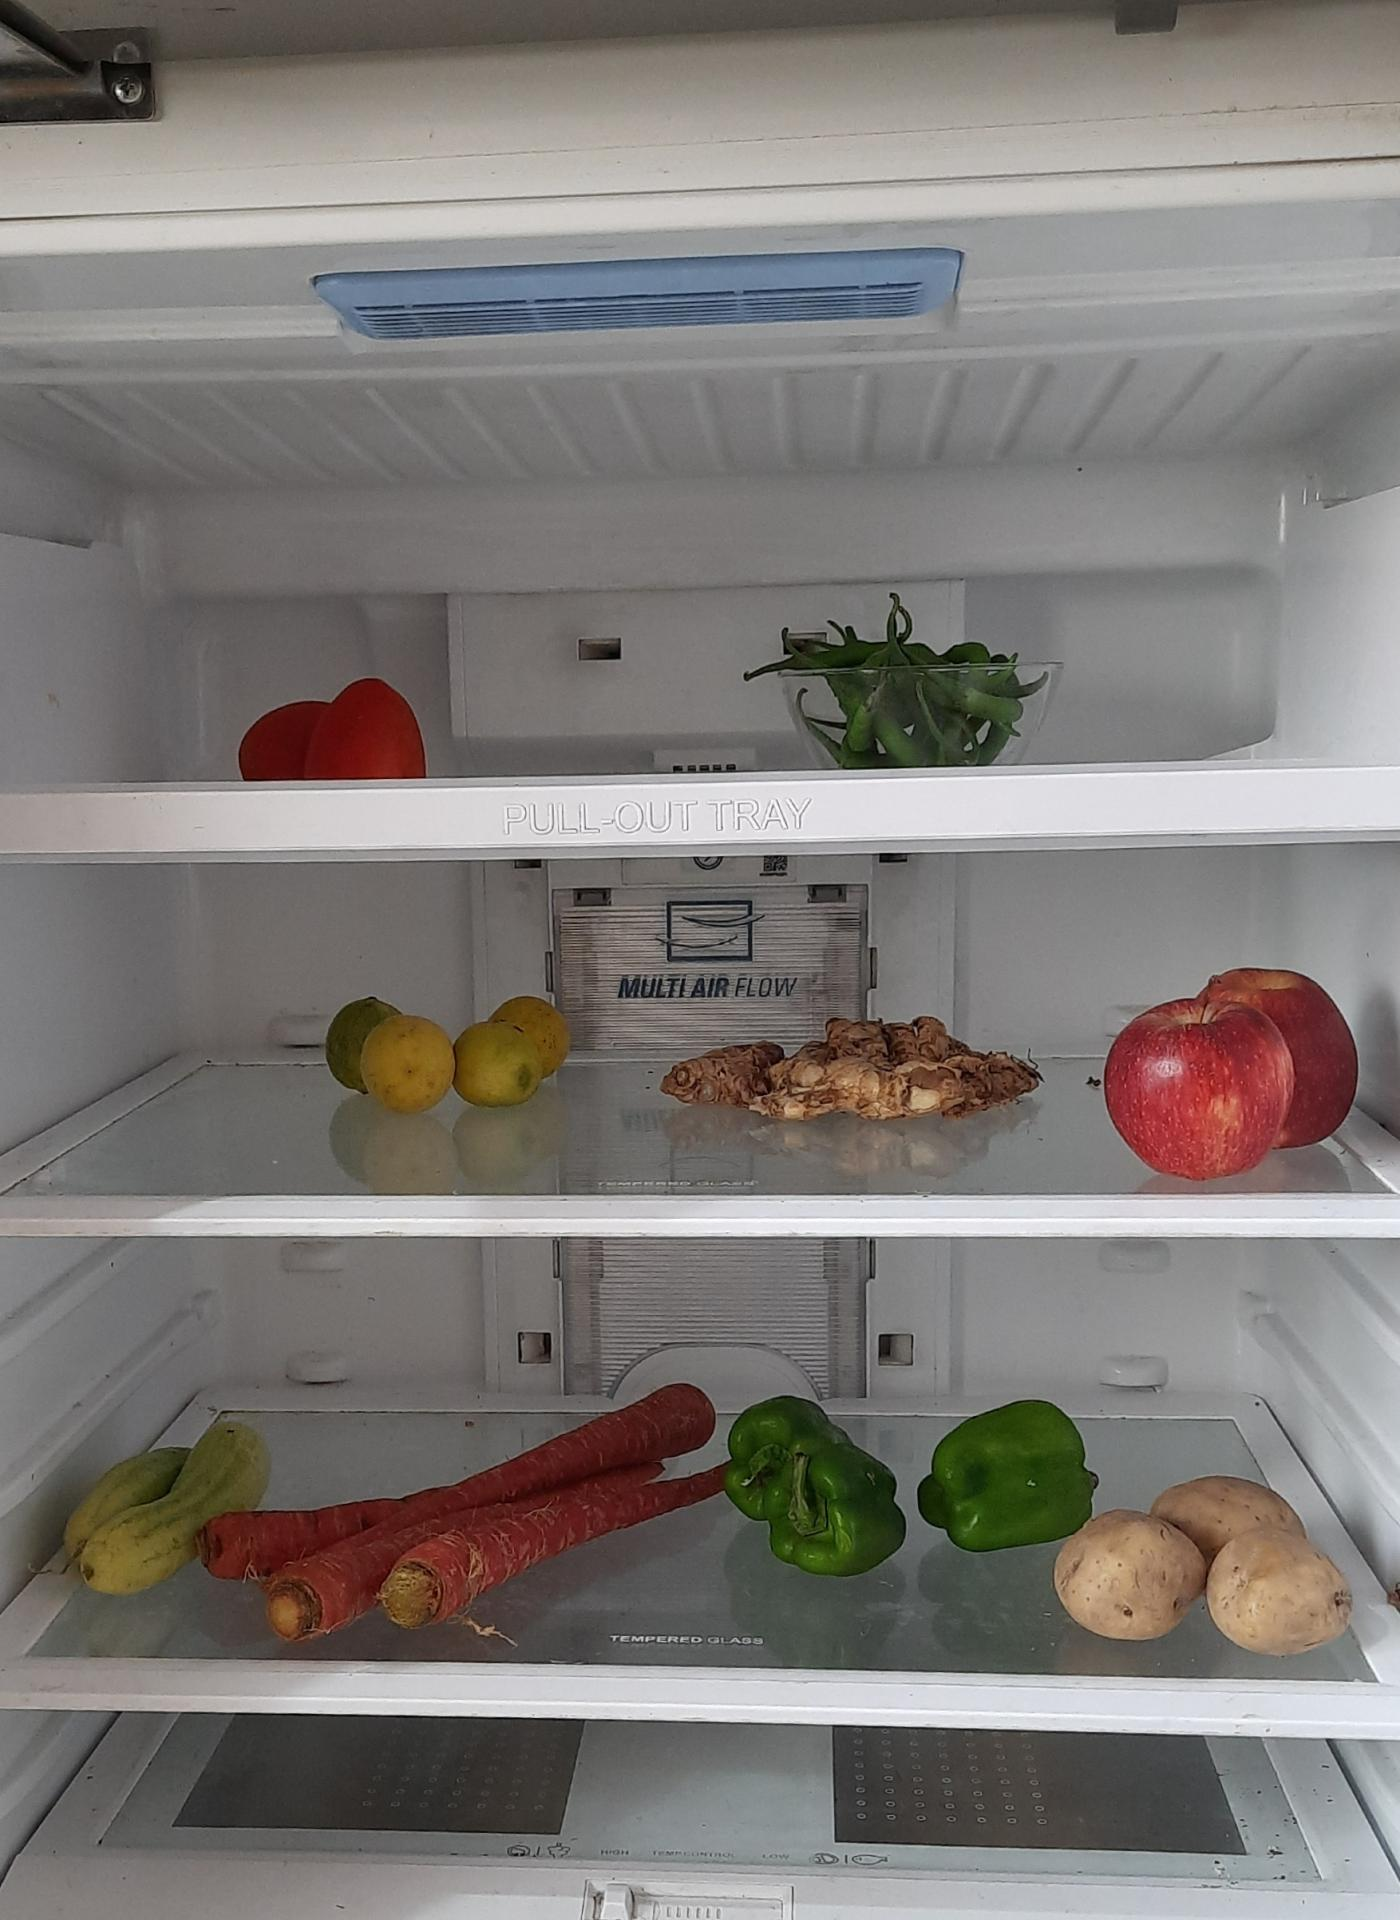apple: (1103, 951, 1364, 1176)
capsicum: (731, 1371, 914, 1608), (914, 1380, 1093, 1541)
carrots: (192, 1391, 744, 1641)
chillies: (772, 593, 1047, 760)
cucumber: (55, 1416, 268, 1597)
ginger: (650, 1021, 1047, 1143)
lemon: (327, 996, 573, 1114)
potato: (1059, 1477, 1370, 1662)
tomato: (239, 671, 426, 780)
